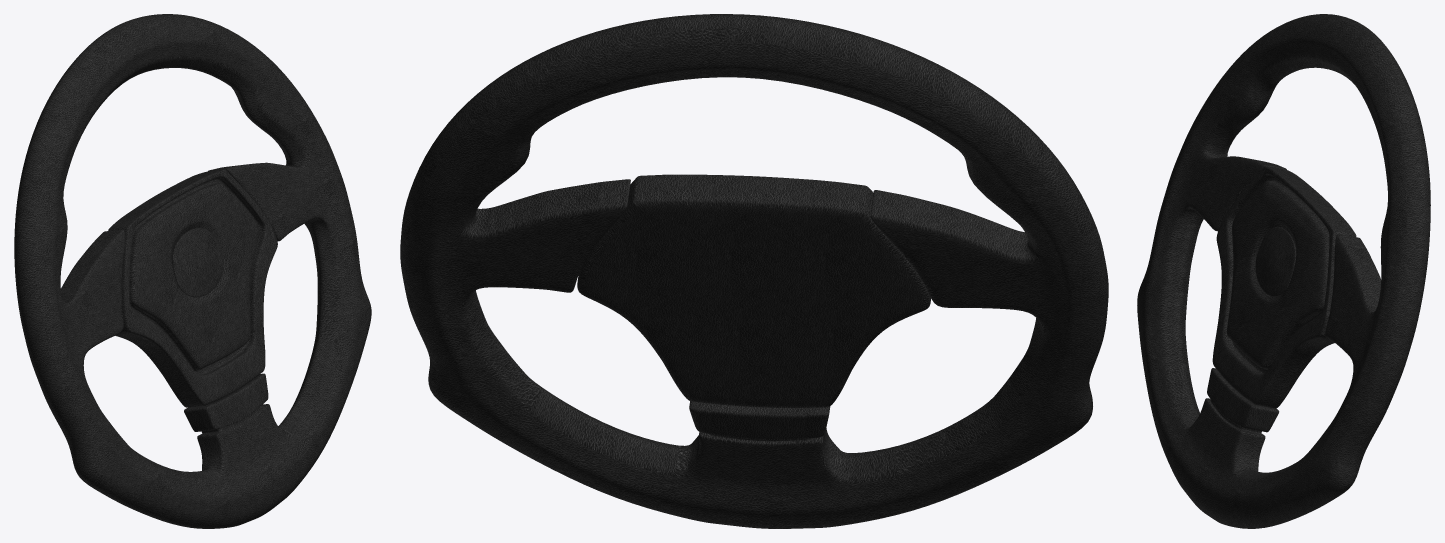
The model's file is SteeringWheel.fbx.
3 renders of one model, left to right at view 1: azimuth 30°, elevation 25°; view 2: azimuth 150°, elevation 25°; view 3: azimuth 270°, elevation 25°, orthographic. The views are drawn at different scales.
Visible parts, largest first — view 1: Circle; view 2: Circle; view 3: Circle.
Part boxes in pixels (box(x1,y1,x2,y2)): Circle: box(14, 14, 371, 528); Circle: box(400, 14, 1108, 528); Circle: box(1137, 14, 1430, 528).
Bounding box in the file's own units: 80.94 × 82.7 × 49.31.
Materials: 1 (1 with a texture image).
